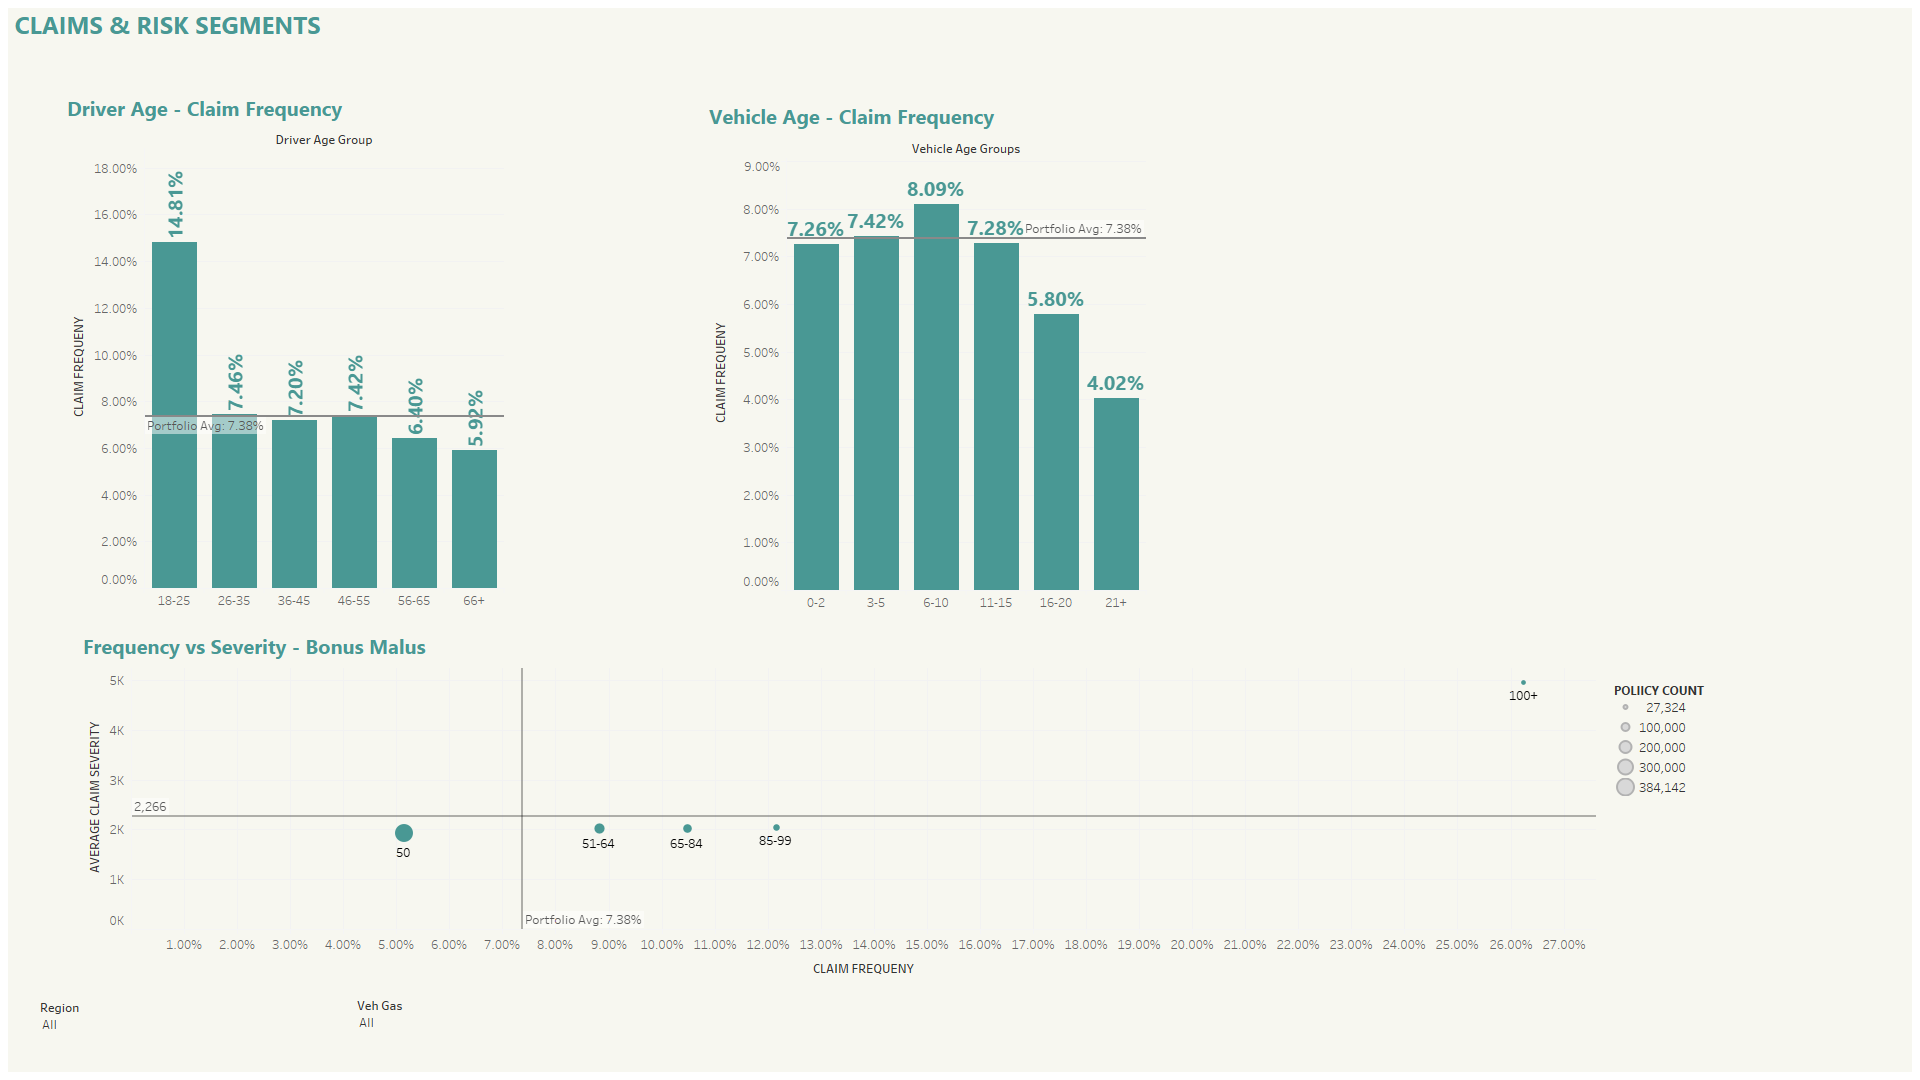

The dashboard page shown, as its layout file describes it:
{"tool":"tableau","page":{"name":"Claims & Risk Segments","canvas":[1920,1080],"ordinal":1},"visuals":[{"type":"title","box":[8,8,1904,32]},{"type":"worksheet","title":"Driver Age - Claim Frequency","mark":"Bar","rows":["Calculation_642325937033326593"],"cols":["DriverAgeGroup"],"box":[63,88,1123,521]},{"type":"worksheet","title":"Vehicle Age - Claim Frequency","mark":"Bar","rows":["Calculation_642325937033326593"],"cols":["Vehicle Age Groups"],"box":[705,96,781,515]},{"type":"worksheet","title":"Frequency vs Severity - Bonus Malus","mark":"Circle","rows":["Calculation_642325937034416131"],"cols":["Calculation_642325937033326593"],"box":[78.7,626.4,1516.8,357.8]},{"type":"legend","title":"Frequency vs Severity - Bonus Malus","param":"[federated.18uo1km0bj8vc511p4zme0fl5e8z].[usr:Calculation_642325937031892992:qk]","box":[1612.8,680.4,270.7,205.2]}]}

Visuals, with their boxes in screenshot pixels (x1, y1, x2, y2), scaled from the page's 1920x1080 canvas onto the 1920x1080 screenshot:
title: 8 8 1912 40
"Driver Age - Claim Frequency" worksheet (Bar marks): 63 88 1186 609
"Vehicle Age - Claim Frequency" worksheet (Bar marks): 705 96 1486 611
"Frequency vs Severity - Bonus Malus" worksheet (Circle marks): 79 626 1596 984
"Frequency vs Severity - Bonus Malus" legend: 1613 680 1884 886
